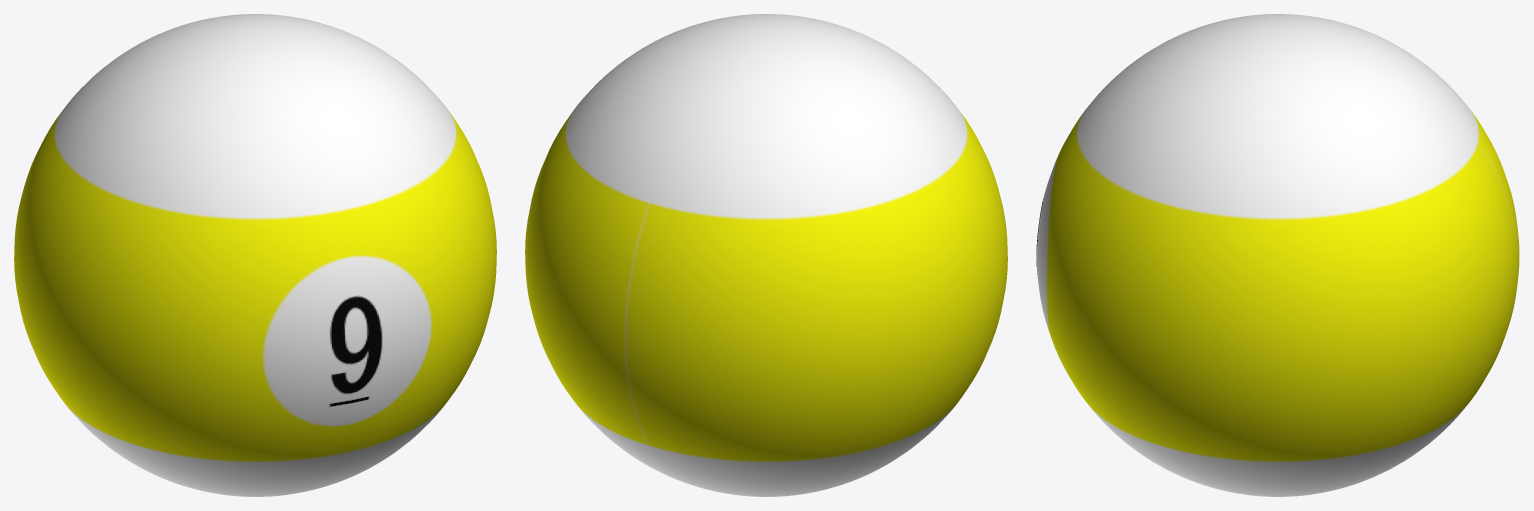
Rendered from Ball9.obj.
The picture shows the model from 3 angles, left to right: view 1: azimuth 30°, elevation 25°; view 2: azimuth 150°, elevation 25°; view 3: azimuth 270°, elevation 25°; orthographic projection.
Visible parts, largest first — view 1: Sphere; view 2: Sphere; view 3: Sphere.
Part boxes in pixels (x1=…): Sphere: x1=14, y1=14, x2=496, y2=496; Sphere: x1=525, y1=14, x2=1007, y2=496; Sphere: x1=1036, y1=14, x2=1519, y2=496.
Bounding box in the file's own units: 2 × 2 × 2.
Materials: 1 (1 with a texture image).
